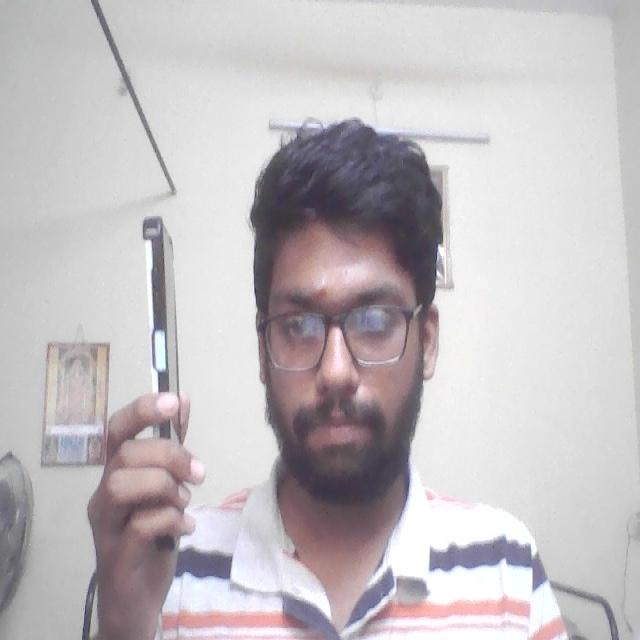Mobile: (132, 208, 192, 390)
